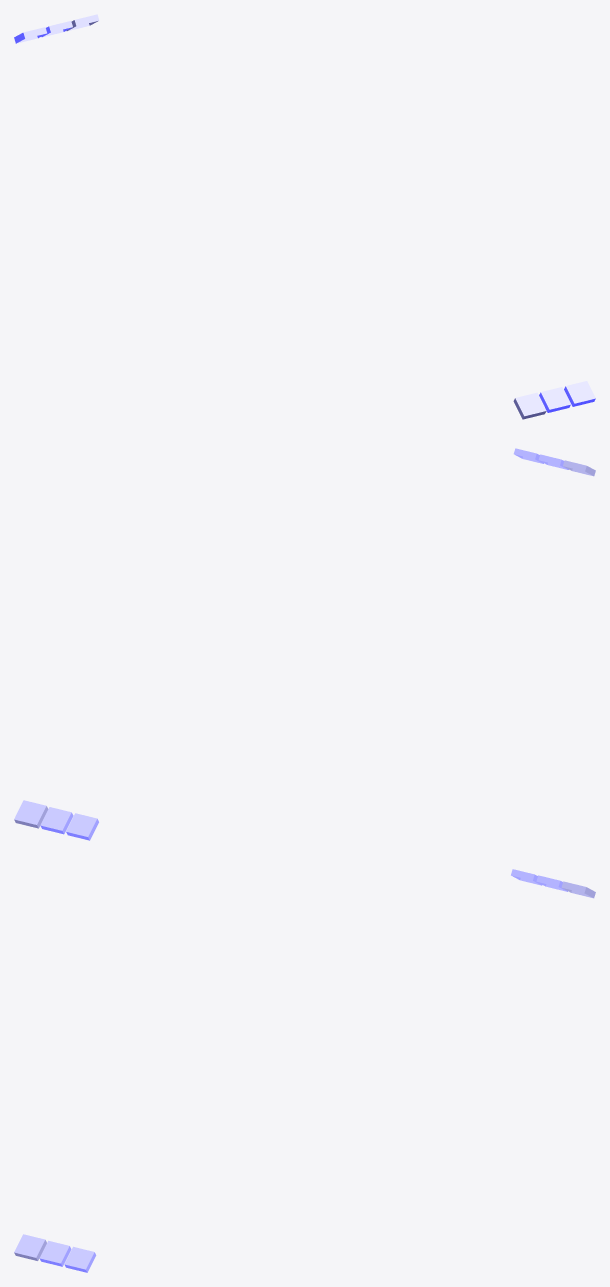
File: Table_3_Button_Blue_0.glb
The picture shows the model from 3 angles, top to bottom: view 1: azimuth 30°, elevation 25°; view 2: azimuth 150°, elevation 25°; view 3: azimuth 330°, elevation 25°; orthographic projection.
Parts seen in each view (by area): view 1: Table_3_Button_Blue_0.001, Table_3_Button_Blue_0.003, Table_3_Button_Blue_0.004; view 2: Table_3_Button_Blue_0.005, Table_3_Button_Blue_0.006, Table_3_Button_Blue_0.007; view 3: Table_3_Button_Blue_0.001, Table_3_Button_Blue_0.004, Table_3_Button_Blue_0.003.
Part boxes in pixels (box(x1,y1,x2,y2)): Table_3_Button_Blue_0.001: box(513, 392, 546, 419); Table_3_Button_Blue_0.003: box(539, 387, 570, 412); Table_3_Button_Blue_0.004: box(564, 381, 595, 406); Table_3_Button_Blue_0.005: box(14, 800, 48, 828); Table_3_Button_Blue_0.006: box(40, 807, 73, 834); Table_3_Button_Blue_0.007: box(66, 813, 98, 840); Table_3_Button_Blue_0.001: box(14, 1234, 46, 1260); Table_3_Button_Blue_0.004: box(64, 1246, 96, 1272); Table_3_Button_Blue_0.003: box(39, 1240, 71, 1266).
Bounding box in the file's own units: 0.0948 × 0.0277 × 1.13.
